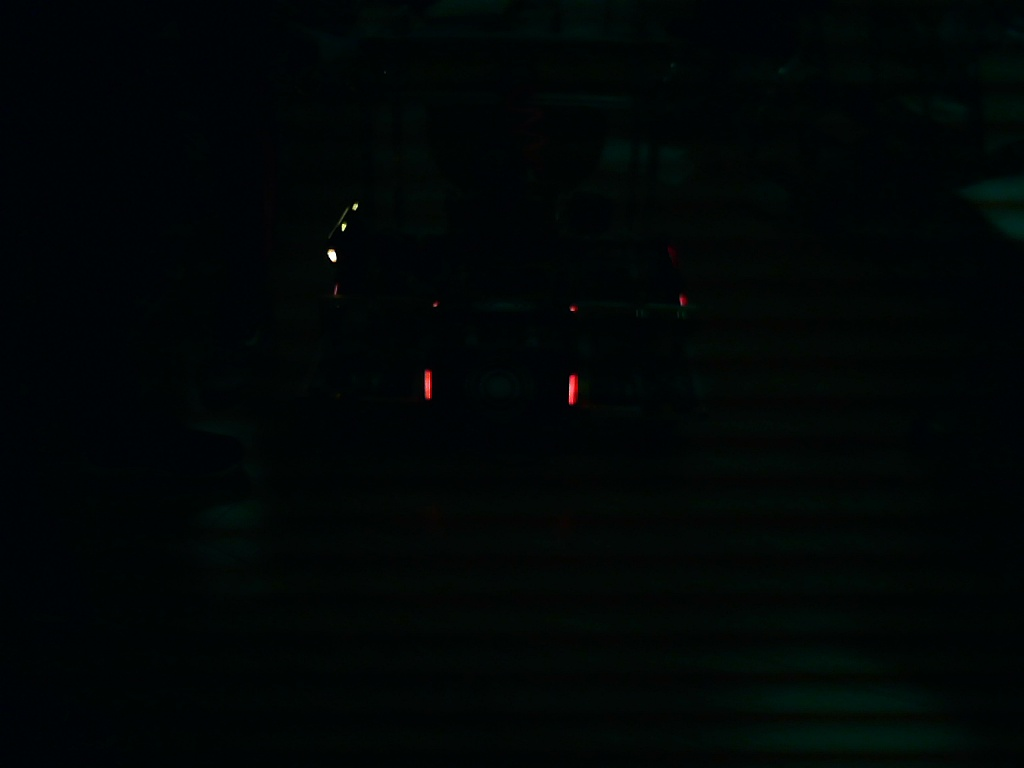lamp: (422, 367, 436, 403), (568, 369, 579, 411)
